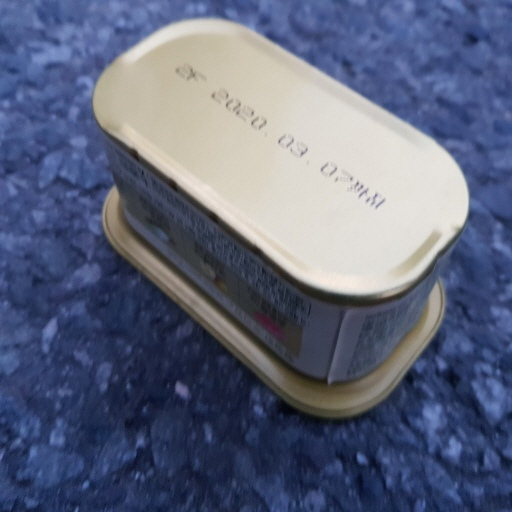Metal_2: (93, 16, 471, 421)
